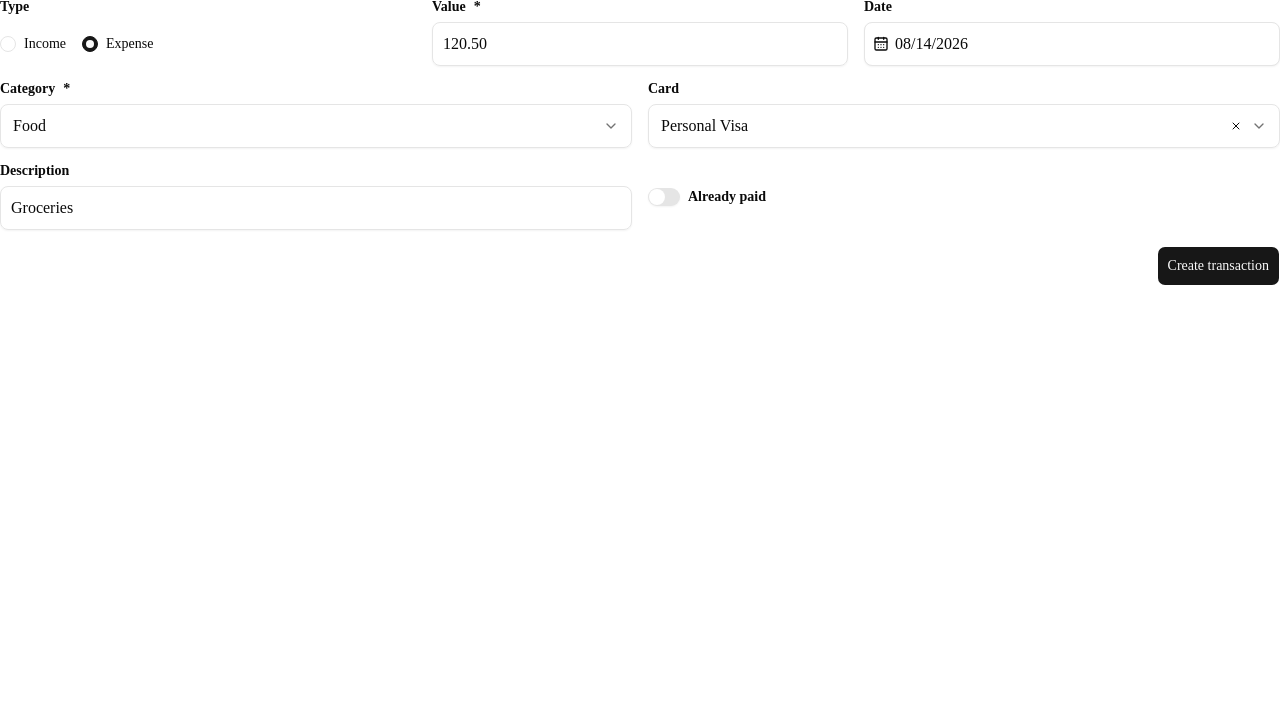
TransactionForm › caps the transaction date at today
What coordinates should you click on to do the following:
click the button named "Date"
I would click on:
 (931, 44)
Its box is [864,22,1279,66].
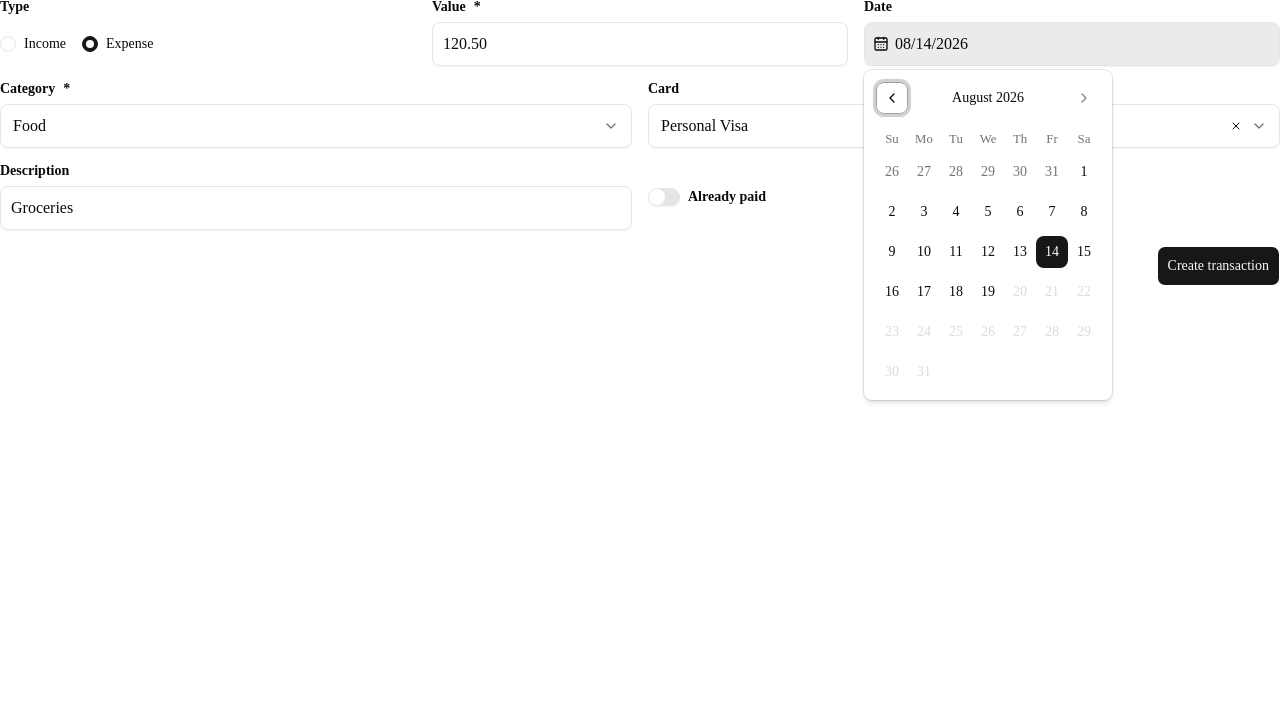
Check: the button named "August 19th, 2026" is enabled, box [972,276,1004,308]
Check: the button named "August 20th, 2026" is disabled, box [1004,276,1036,308]
